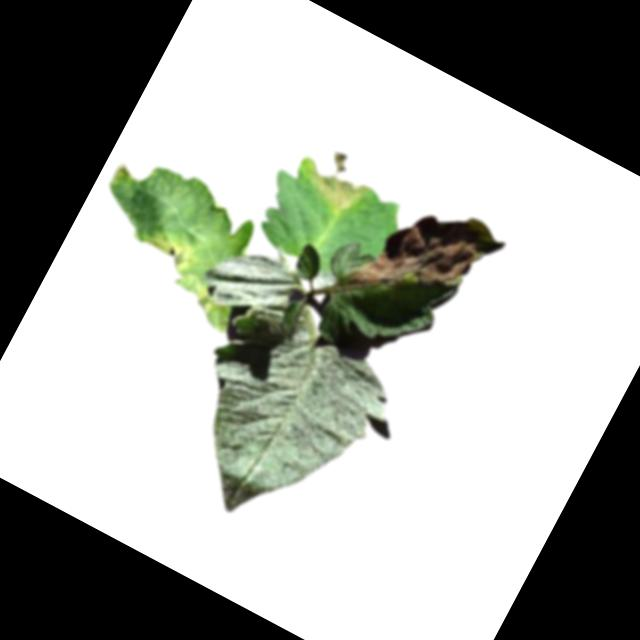Late_blight: (343, 177, 510, 341), (291, 141, 376, 224), (165, 273, 239, 333), (135, 222, 199, 275), (110, 159, 134, 184)
